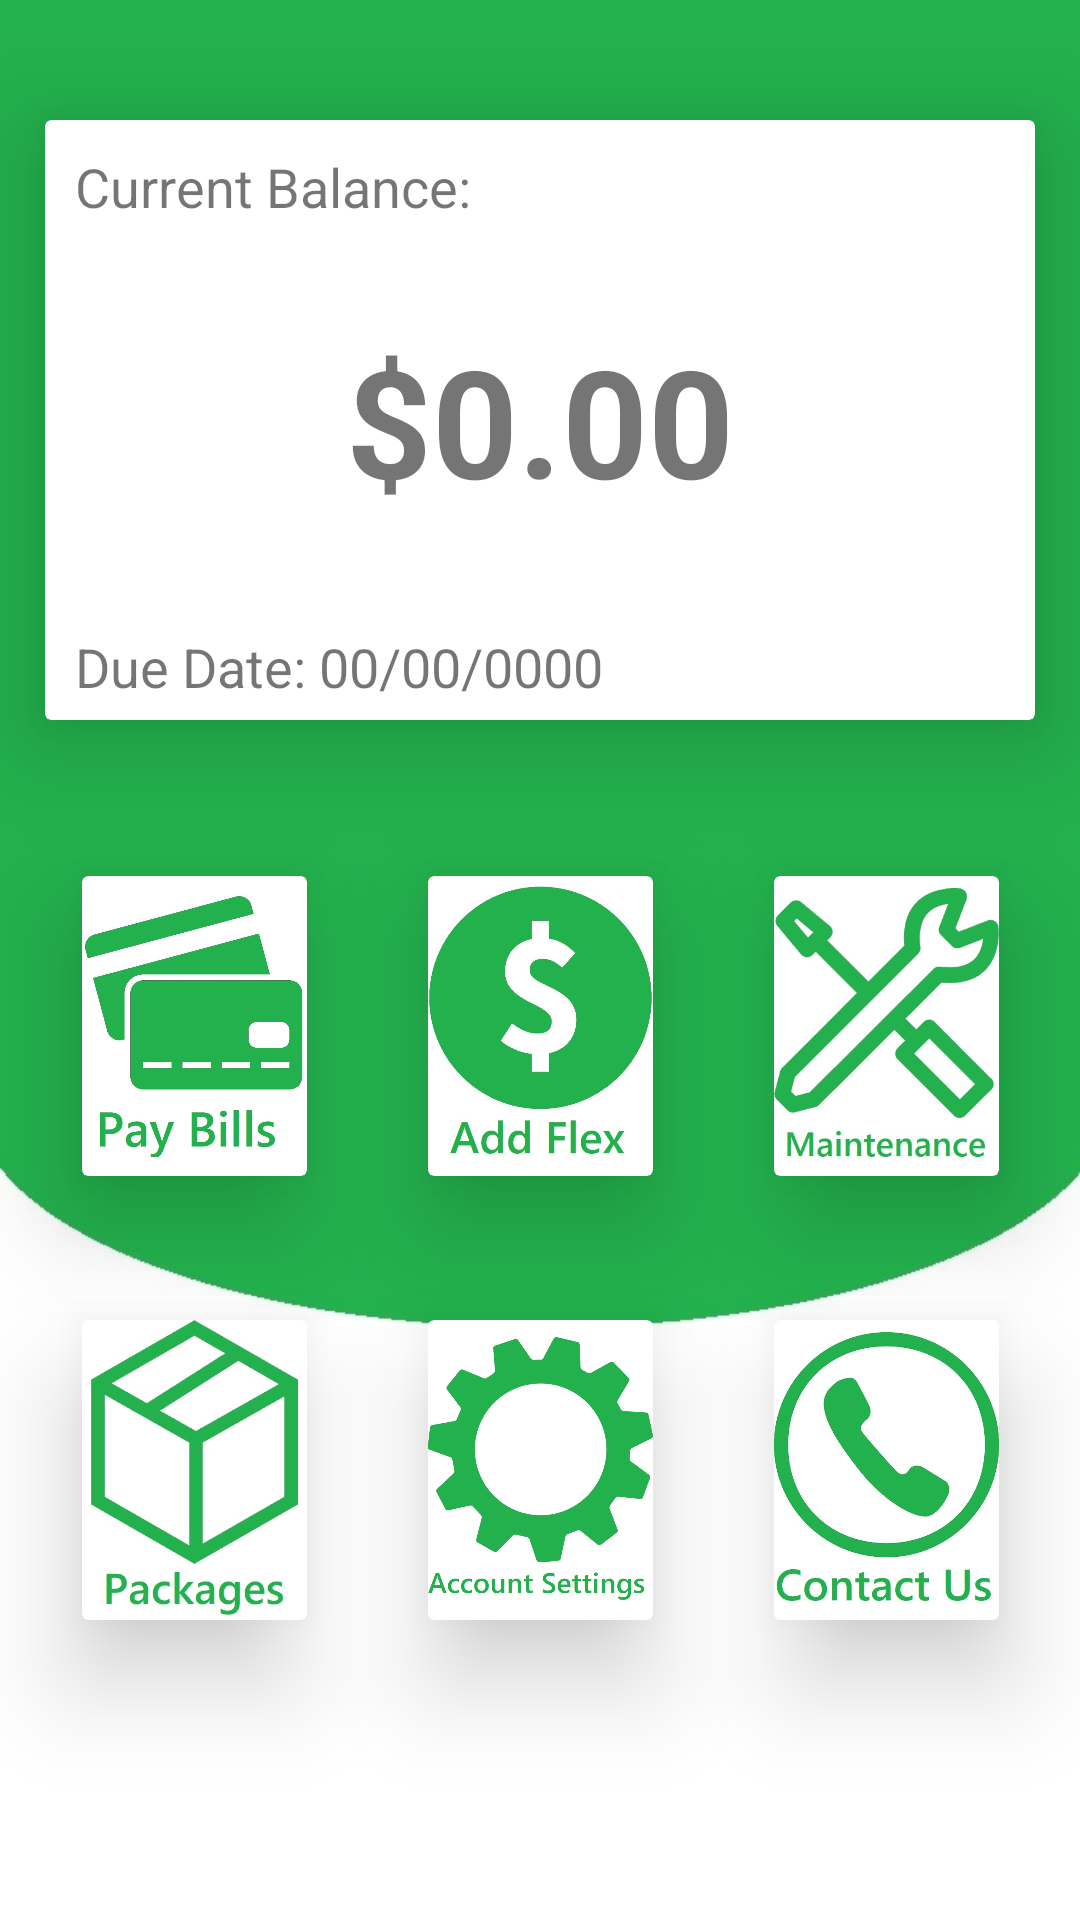

Where to tap for icons on this 1080×1920 app screen, as (x=x, y=y):
add cash text: (x=540, y=1026)
